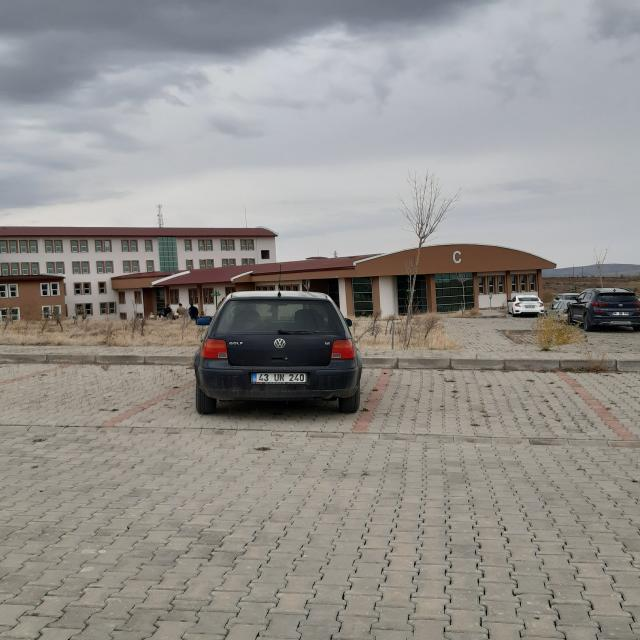plate: (251, 372, 307, 382)
